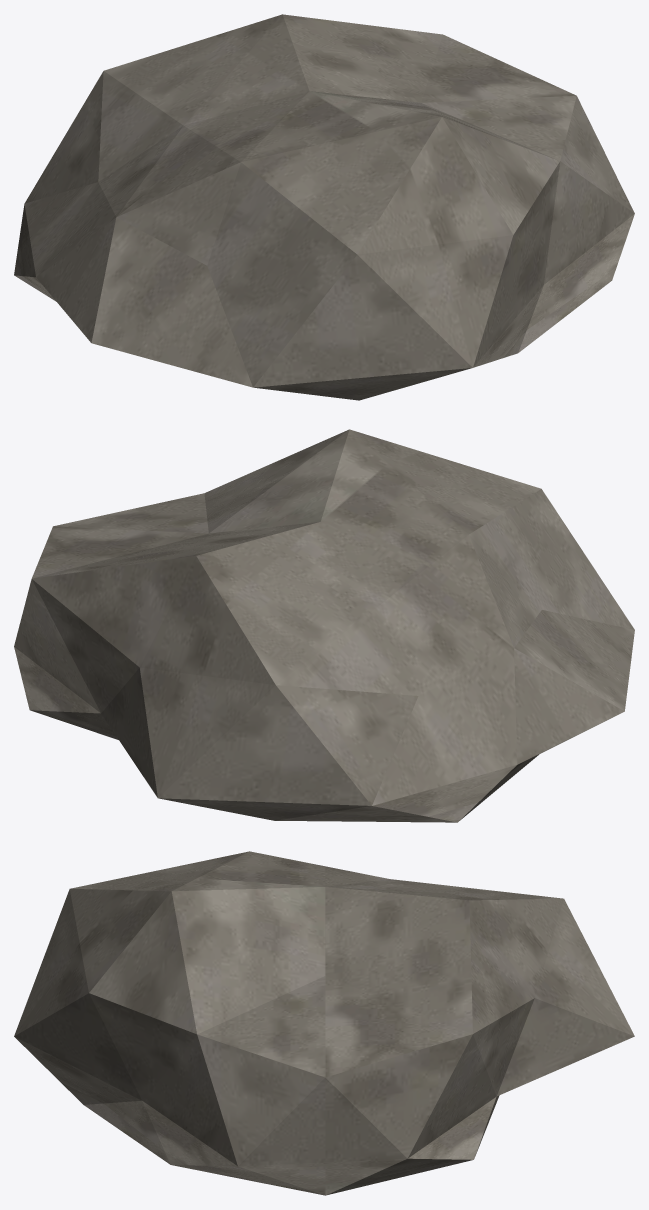
Rendered from rock_b.glb.
3 views of the same model, one above another, from view 1: azimuth 30°, elevation 25°; view 2: azimuth 150°, elevation 25°; view 3: azimuth 270°, elevation 25° (orthographic). The views are drawn at different scales.
Visible parts, largest first — view 1: Rock_B; view 2: Rock_B; view 3: Rock_B.
Boxes of the visible parts, box(x1,y1,x2,y2) form: Rock_B: box(14, 14, 634, 400); Rock_B: box(14, 429, 634, 822); Rock_B: box(14, 851, 634, 1195).
Bounding box in the file's own units: 1.6 × 0.6595 × 1.68.
1 material, 1 textured.
